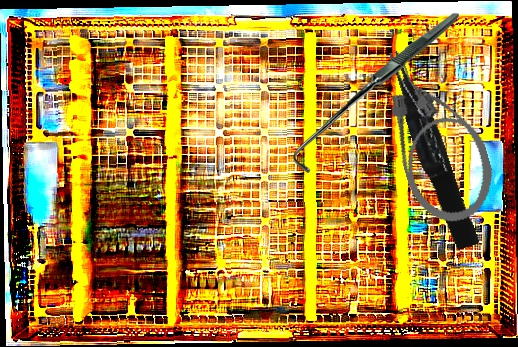Cannula: (377, 50, 503, 232)
Hook Surgical: (291, 12, 462, 174)
Tissue Forceps: (384, 45, 480, 253)
